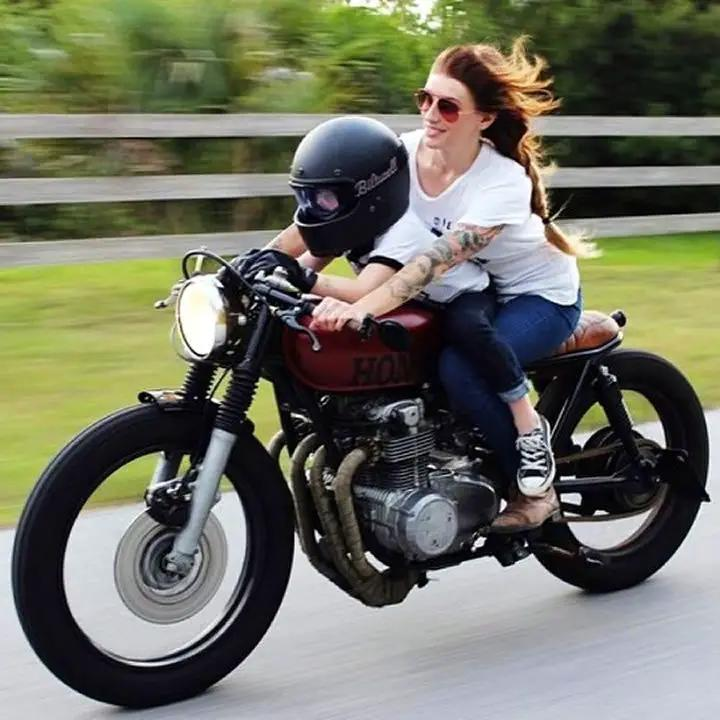Motorcycle: (23, 274, 697, 584)
